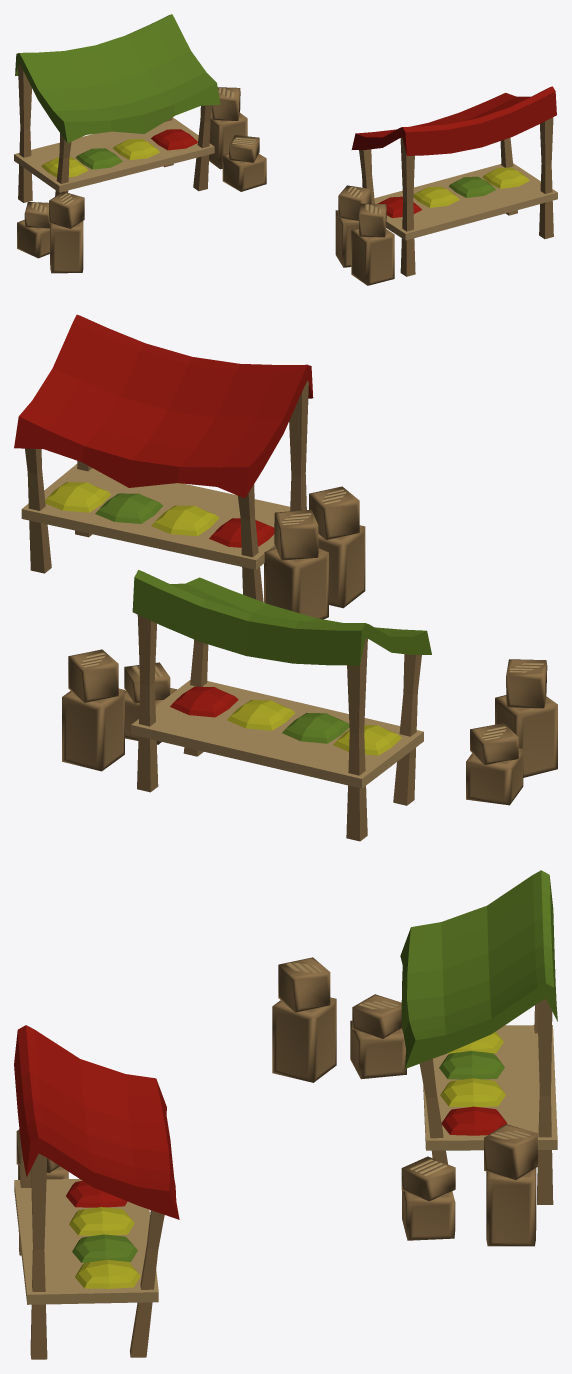
File: market_firstage_level1.glb
3 renders of one model, top to bottom at view 1: azimuth 30°, elevation 25°; view 2: azimuth 150°, elevation 25°; view 3: azimuth 270°, elevation 25°, orthographic. The views are drawn at different scales.
Visible parts, largest first — view 1: Market_FirstAge_Level1; view 2: Market_FirstAge_Level1; view 3: Market_FirstAge_Level1.
Part boxes in pixels (x1=…): Market_FirstAge_Level1: x1=14, y1=14, x2=557, y2=285; Market_FirstAge_Level1: x1=14, y1=314, x2=557, y2=841; Market_FirstAge_Level1: x1=14, y1=870, x2=557, y2=1359.
Size of the model in its own units: 1.62 by 0.5514 by 1.22.
